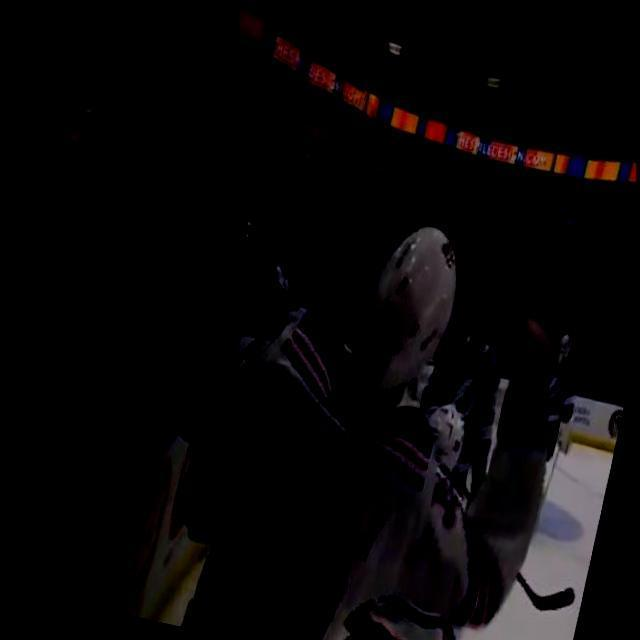fight: (147, 175, 600, 640)
